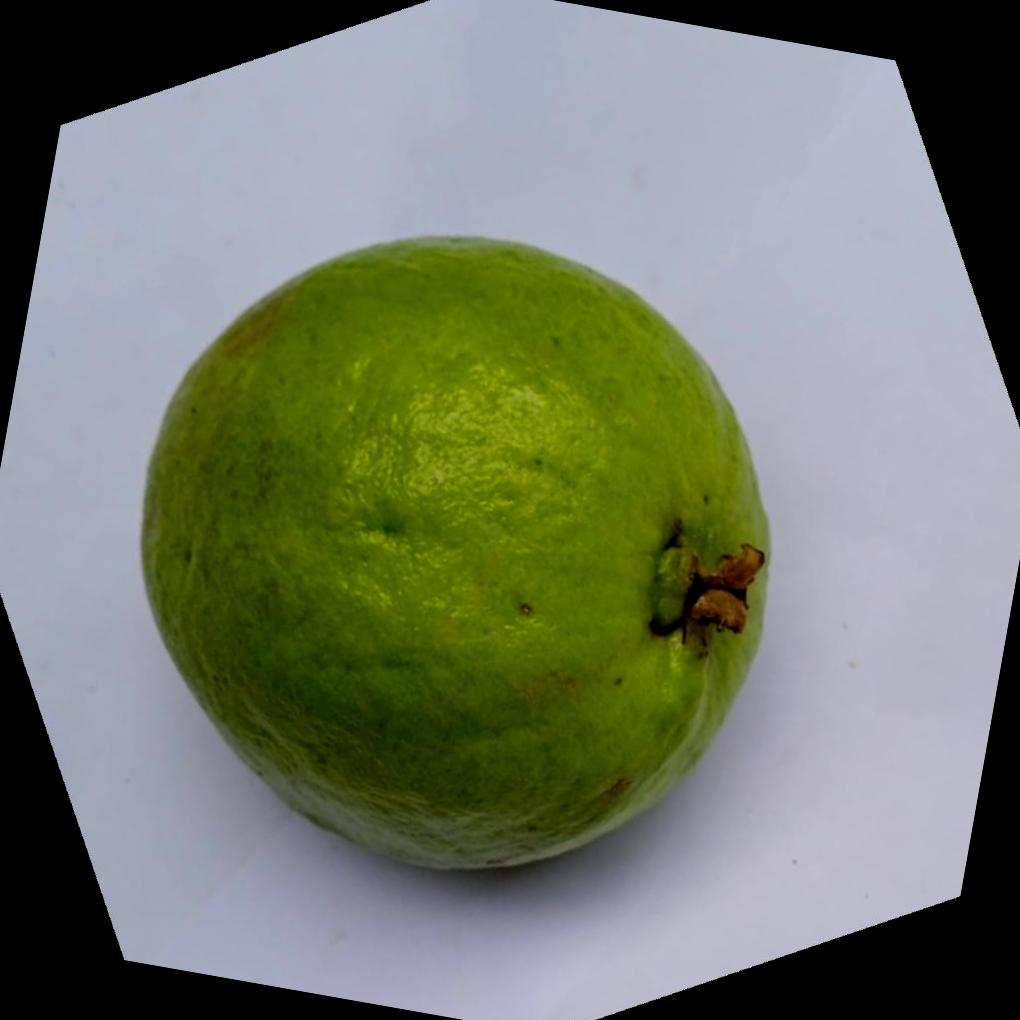FreshGuava: (137, 236, 773, 876)
